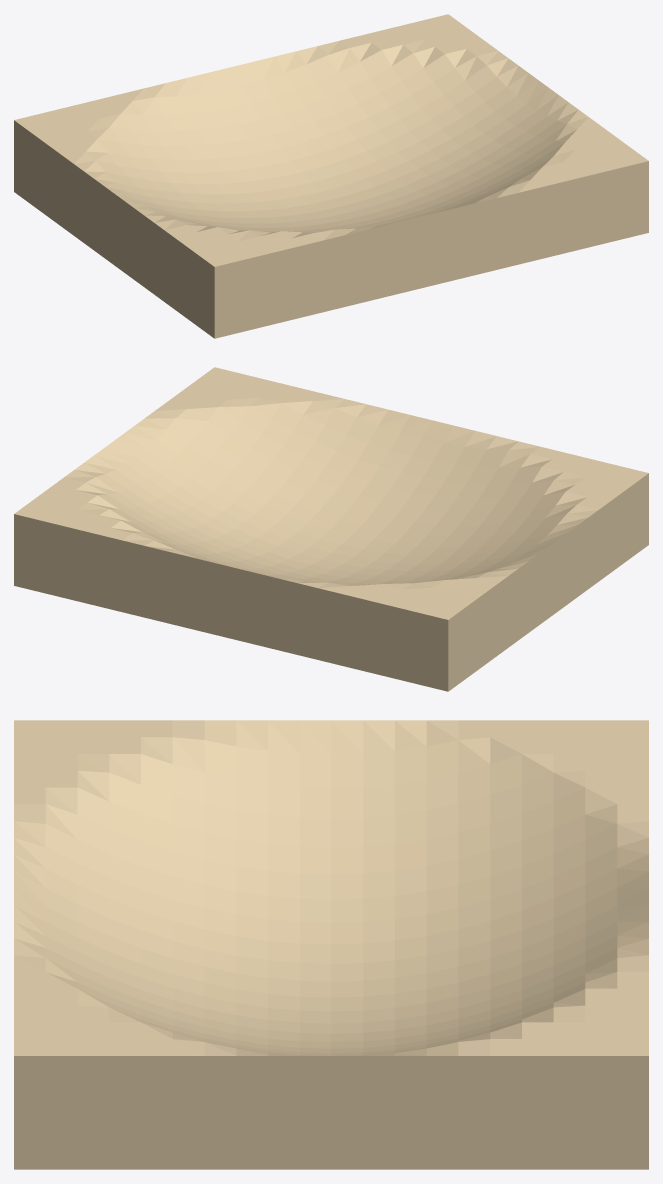
Rendered from desert-canyons-and-oases-blowout-hollow-f22d16bb__20941.glb.
3 renders of one model, top to bottom at view 1: azimuth 30°, elevation 25°; view 2: azimuth 150°, elevation 25°; view 3: azimuth 270°, elevation 25°, orthographic. The views are drawn at different scales.
Parts seen in each view (by area): view 1: blowout-hollow; view 2: blowout-hollow; view 3: blowout-hollow.
Boxes of the visible parts, x1,y1,x2,y2 form: blowout-hollow: (14,14,648,338); blowout-hollow: (14,367,648,691); blowout-hollow: (14,720,648,1169).
Bounding box in the file's own units: 5 × 0.7898 × 4.
